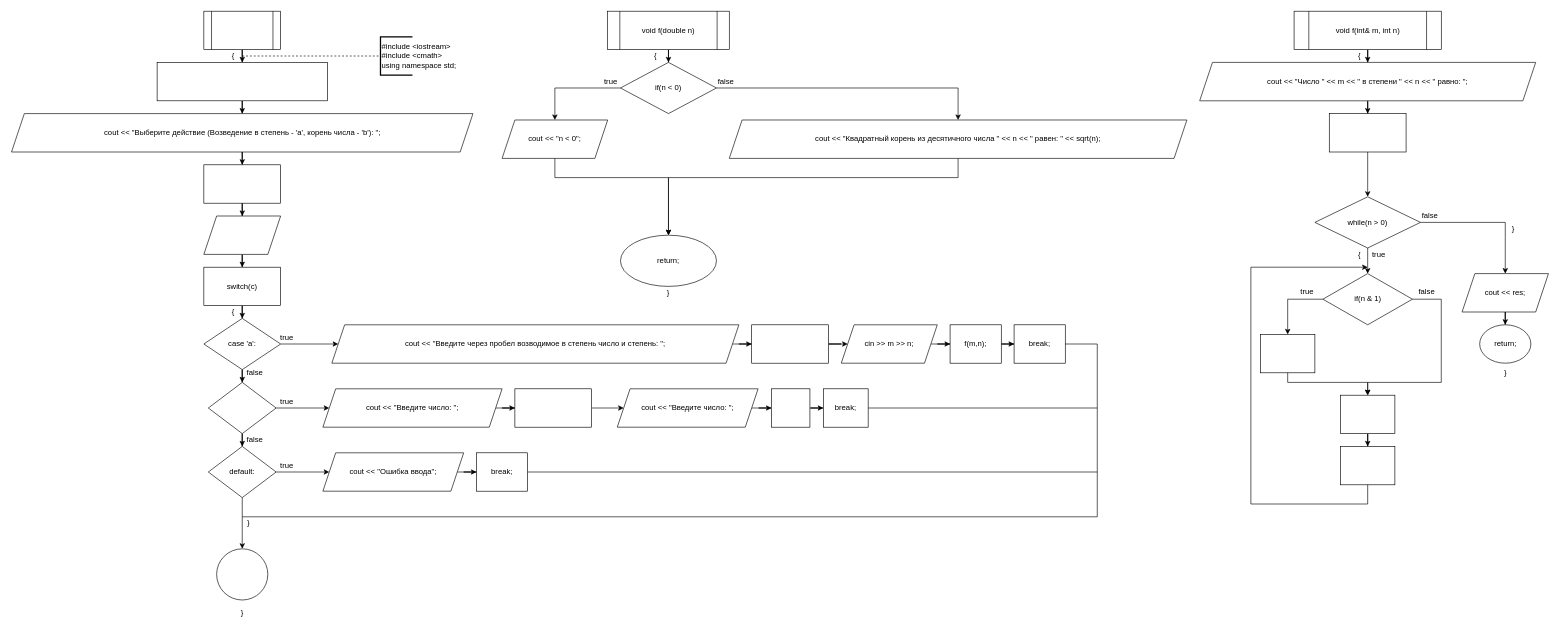
This 1560x630 diagram has some shape labels left out. The box of each missing label's shape, as (x1, y1, x2, y2) in pixels:
case 'b':: (208, 382, 276, 434)
char c;: (203, 164, 281, 203)
cin >> c;: (203, 215, 281, 254)
double a;: (514, 388, 592, 427)
f(a);: (771, 388, 810, 427)
int m,n;: (751, 324, 828, 363)
int main(): (203, 11, 281, 50)
int res = 1;: (1329, 113, 1406, 152)
m *= m;: (1340, 395, 1395, 434)
n >>= 1;: (1340, 446, 1395, 485)
res *= m;: (1260, 334, 1315, 373)
return 0;: (216, 548, 268, 600)
setlocale(LC_ALL,".65001");: (156, 62, 327, 101)
